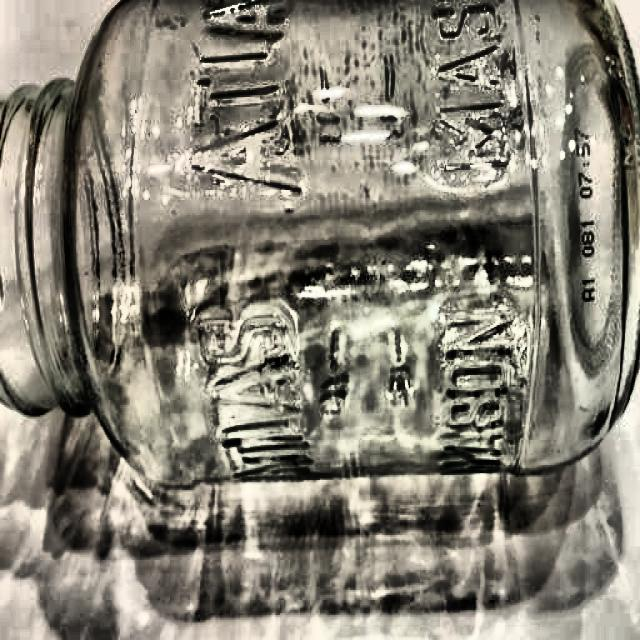glass: (0, 0, 635, 498)
